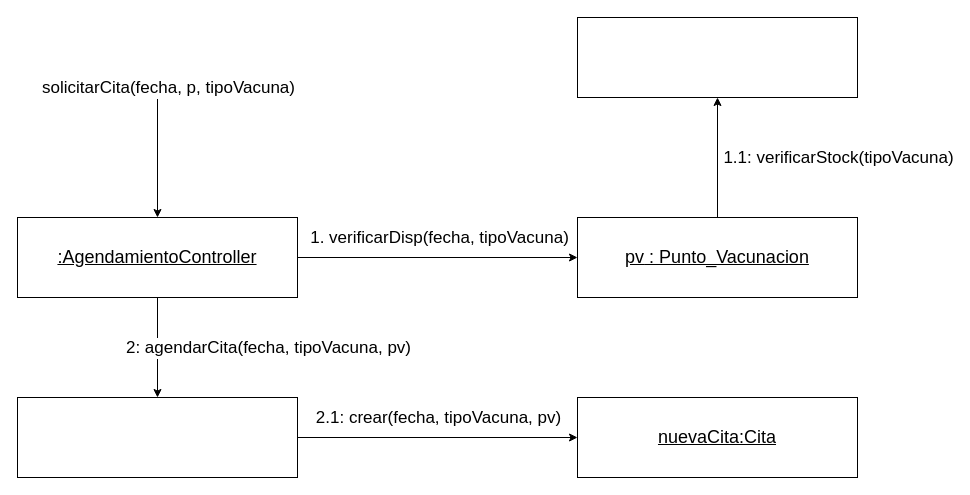
This 970x495 diagram has some shape labels left out. The centre of each missing label's shape, as x and y in pixels:
":Almacenamiento" belongs at point (717, 57).
"p:Persona" belongs at point (157, 437).
